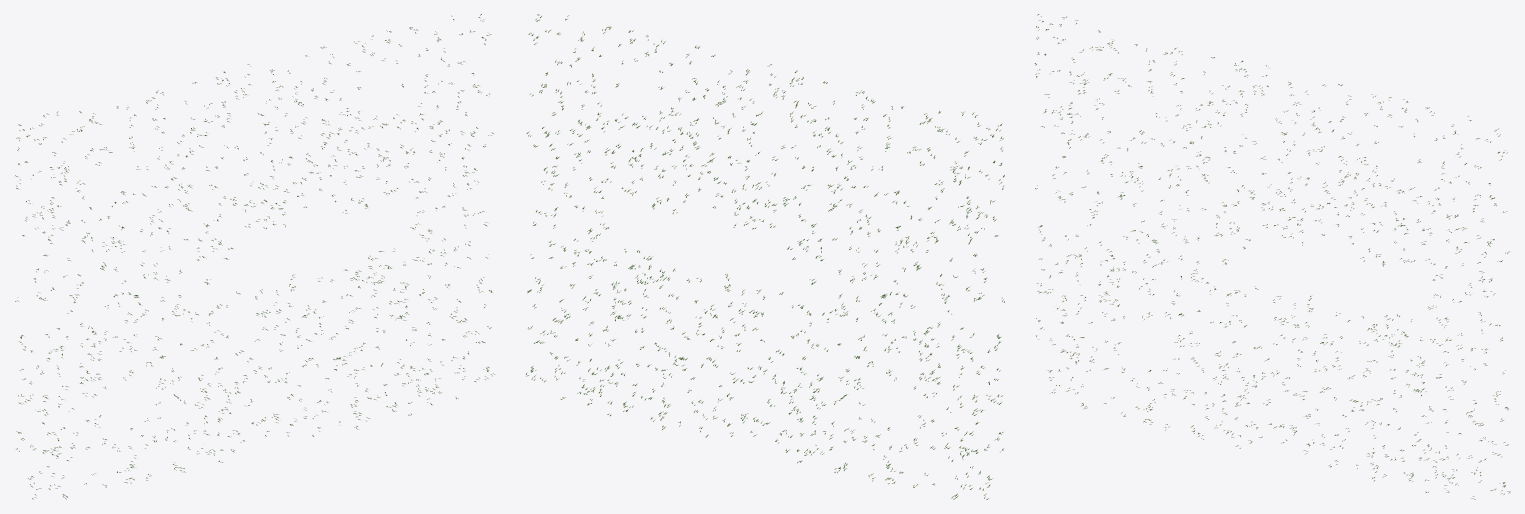
File: grass_patch.obj
The picture shows the model from 3 angles, left to right: view 1: azimuth 30°, elevation 25°; view 2: azimuth 150°, elevation 25°; view 3: azimuth 330°, elevation 25°; orthographic projection.
Size of the model in its own units: 28.31 by 22.11 by 0.3199.
Materials: 1 (1 with a texture image).
